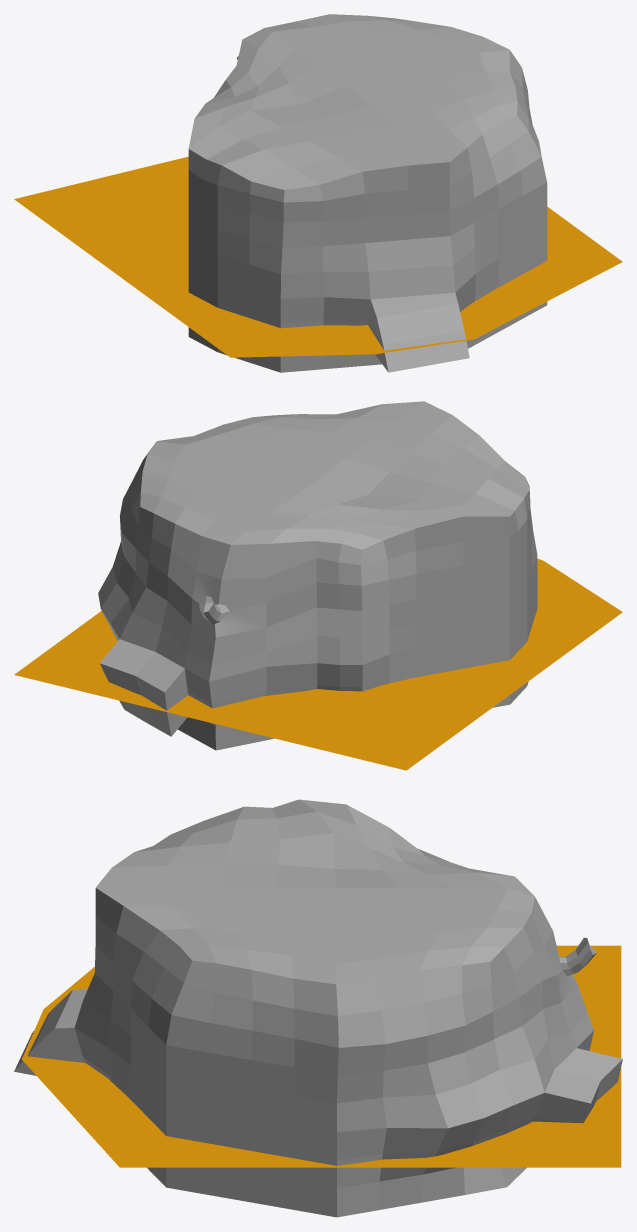
Rendered from env_level4_finalBoss_WallsAndLavaV5.fbx.
3 views of the same model, one above another, from view 1: azimuth 30°, elevation 25°; view 2: azimuth 150°, elevation 25°; view 3: azimuth 270°, elevation 25° (orthographic). The views are drawn at different scales.
Parts seen in each view (by area): view 1: polySurface7, pPlane1; view 2: polySurface7, pPlane1; view 3: polySurface7, pPlane1.
Boxes of the visible parts, x1=… form: polySurface7: x1=188, y1=14, x2=547, y2=372; pPlane1: x1=14, y1=156, x2=622, y2=357; polySurface7: x1=98, y1=401, x2=537, y2=750; pPlane1: x1=14, y1=558, x2=622, y2=770; polySurface7: x1=14, y1=799, x2=622, y2=1217; pPlane1: x1=22, y1=945, x2=621, y2=1167.
Size of the model in its own units: 22000 by 10535 by 25526.
